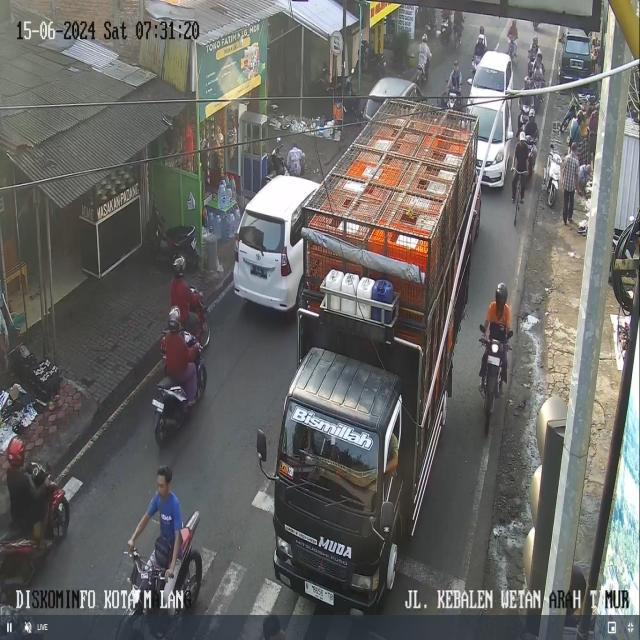Helmet: (7, 437, 25, 466), (167, 306, 179, 331), (172, 255, 186, 276), (495, 283, 508, 304), (526, 135, 534, 145), (519, 131, 525, 140), (529, 108, 535, 117), (536, 51, 542, 59), (524, 75, 529, 84), (422, 34, 427, 42), (532, 36, 537, 44), (479, 26, 484, 33), (453, 60, 458, 66)
Number Plate: (305, 581, 333, 605), (251, 265, 266, 278), (152, 399, 163, 411), (487, 355, 500, 365), (140, 572, 147, 579), (191, 237, 195, 249)
Rearview Mirror: (380, 501, 394, 534), (256, 429, 267, 462), (479, 324, 485, 333), (507, 330, 513, 338), (467, 78, 471, 85)
